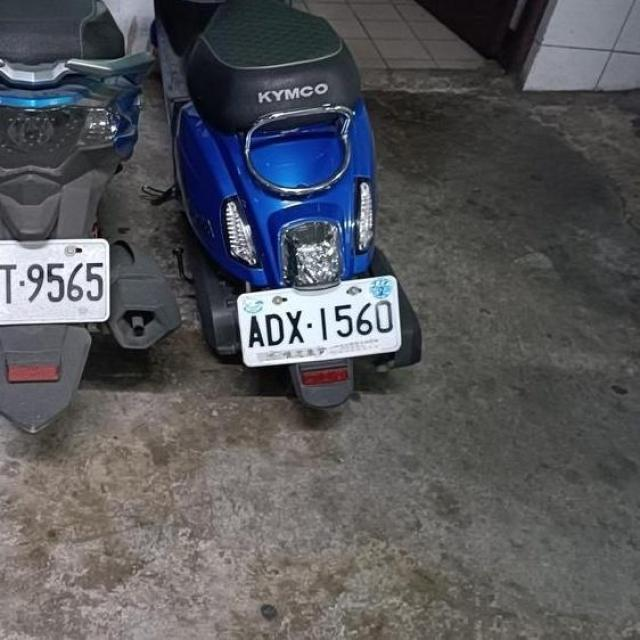W: (236, 274, 405, 368), (0, 235, 112, 326)
